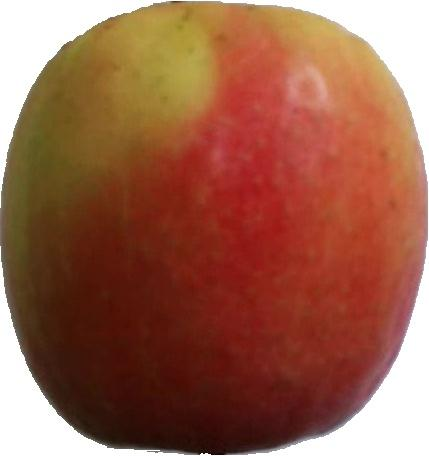Apple Ripe: (2, 2, 426, 453)
